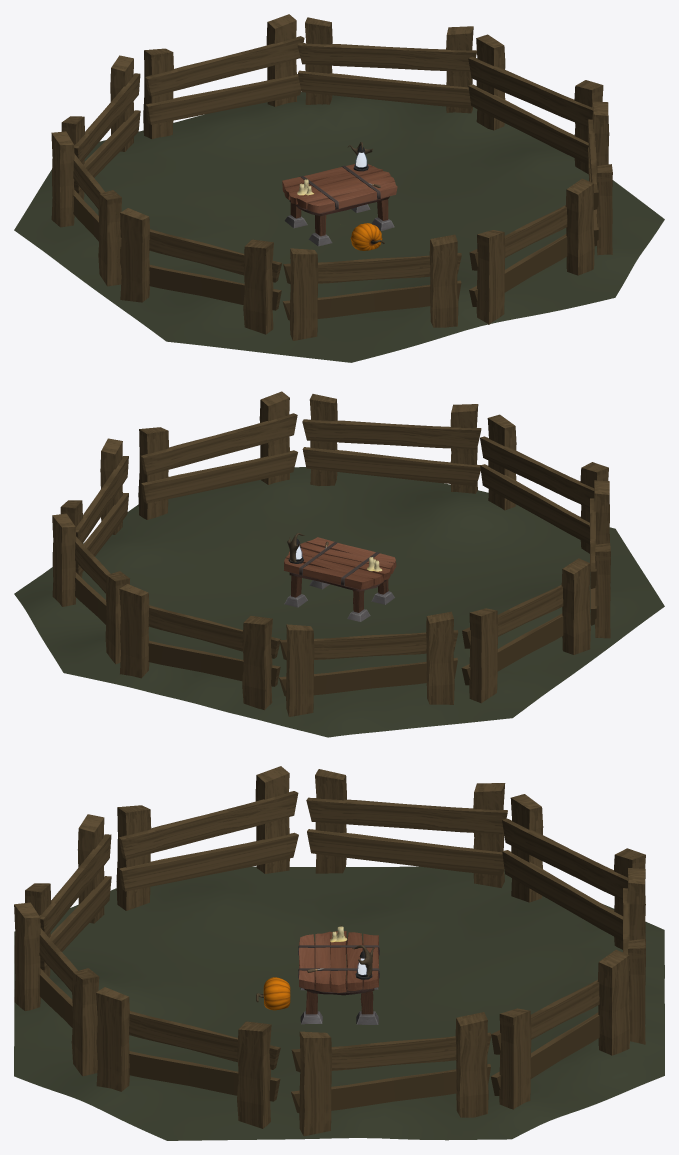
The model's file is Kabak (2).fbx.
3 views of the same model, one above another, from view 1: azimuth 30°, elevation 25°; view 2: azimuth 150°, elevation 25°; view 3: azimuth 270°, elevation 25° (orthographic). The views are drawn at different scales.
Visible parts, largest first — view 1: Plane, Cube.005, Cube.009, Cube.004, Cube.001, Cube.006, Cube.008, Cube.003, Tahta5, Cube.002, Cube.007, KabakDis; view 2: Plane, Cube.006, Cube.002, Cube.007, Cube.001, Cube.003, Cube.005, Tahta5, Cube.009, Cube.008, Cube.004; view 3: Plane, Cube.003, Cube.008, Cube.004, Cube.007, Cube.009, Cube.002, Cube.006, Cube.005, Tahta5, Cube.001, KabakDis.
Boxes of the visible parts, bbox=[...] form: Plane: bbox=[14, 91, 664, 362]; Cube.005: bbox=[282, 234, 461, 340]; Cube.009: bbox=[297, 17, 476, 113]; Cube.004: bbox=[120, 208, 281, 334]; Cube.001: bbox=[143, 14, 304, 139]; Cube.006: bbox=[469, 178, 594, 324]; Cube.008: bbox=[468, 34, 603, 173]; Cube.003: bbox=[51, 131, 121, 286]; Tahta5: bbox=[282, 164, 397, 246]; Cube.002: bbox=[61, 55, 140, 199]; Cube.007: bbox=[588, 101, 612, 255]; KabakDis: bbox=[350, 223, 382, 250]; Plane: bbox=[14, 467, 664, 737]; Cube.006: bbox=[302, 394, 481, 493]; Cube.002: bbox=[279, 611, 458, 716]; Cube.007: bbox=[138, 391, 297, 519]; Cube.001: bbox=[119, 584, 280, 710]; Cube.003: bbox=[461, 558, 590, 703]; Cube.005: bbox=[480, 414, 608, 553]; Tahta5: bbox=[284, 537, 396, 621]; Cube.009: bbox=[52, 513, 129, 664]; Cube.008: bbox=[60, 438, 128, 577]; Cube.004: bbox=[589, 480, 610, 638]; Plane: bbox=[14, 866, 664, 1140]; Cube.003: bbox=[306, 769, 507, 887]; Cube.008: bbox=[291, 1012, 491, 1136]; Cube.004: bbox=[116, 766, 298, 910]; Cube.007: bbox=[96, 987, 280, 1128]; Cube.009: bbox=[490, 949, 630, 1109]; Cube.002: bbox=[502, 794, 645, 949]; Cube.006: bbox=[14, 902, 99, 1076]; Cube.005: bbox=[25, 814, 111, 976]; Tahta5: bbox=[298, 931, 379, 1024]; Cube.001: bbox=[623, 868, 645, 1044]; KabakDis: bbox=[263, 977, 290, 1010].
Size of the model in its own units: 11.87 by 2.21 by 11.89.
